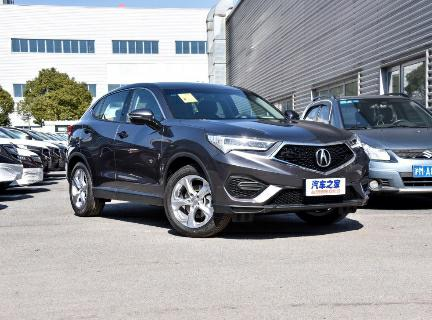讴歌-CDX: (60, 76, 371, 245)
